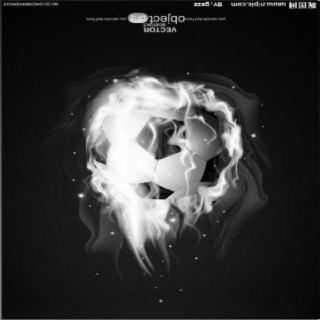Fire: (78, 73, 250, 275)
